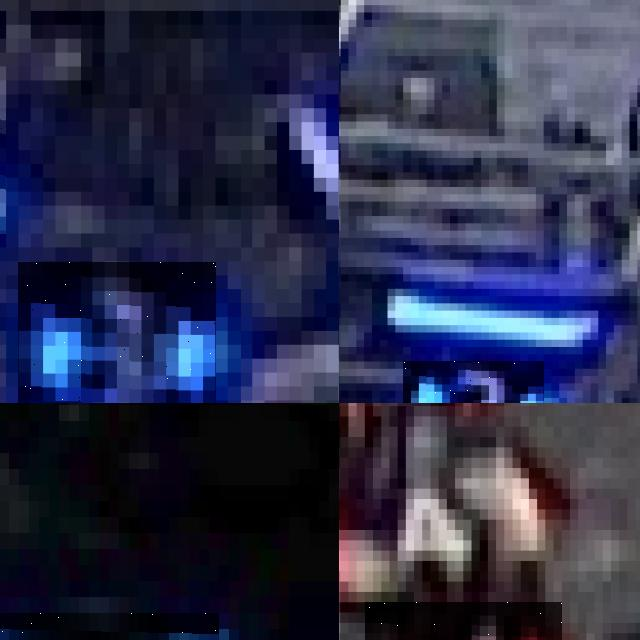B2: (403, 361, 543, 403)
B3: (18, 261, 215, 403)
R4: (365, 602, 562, 640)
